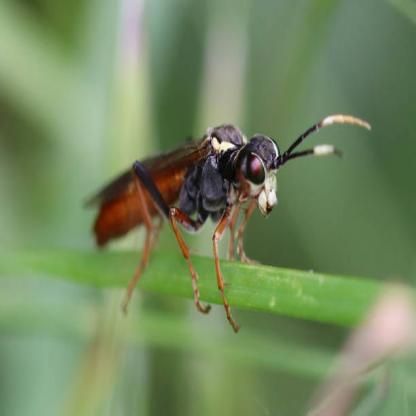sawfly: (85, 113, 373, 341)
